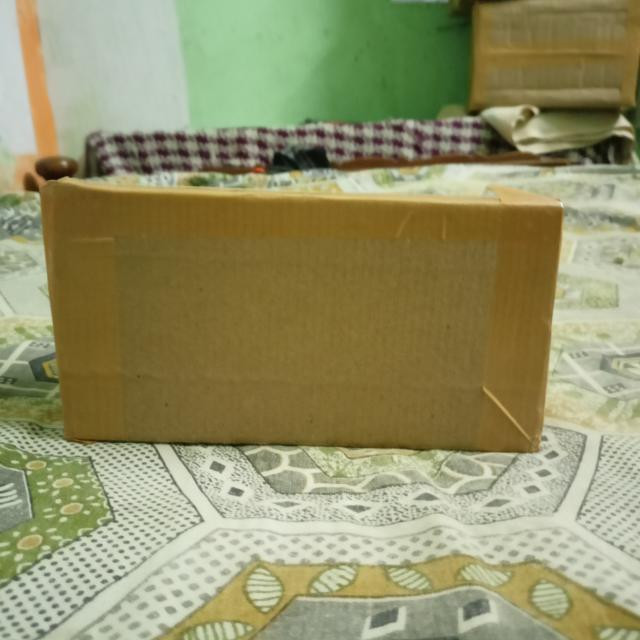box: (38, 187, 564, 450)
